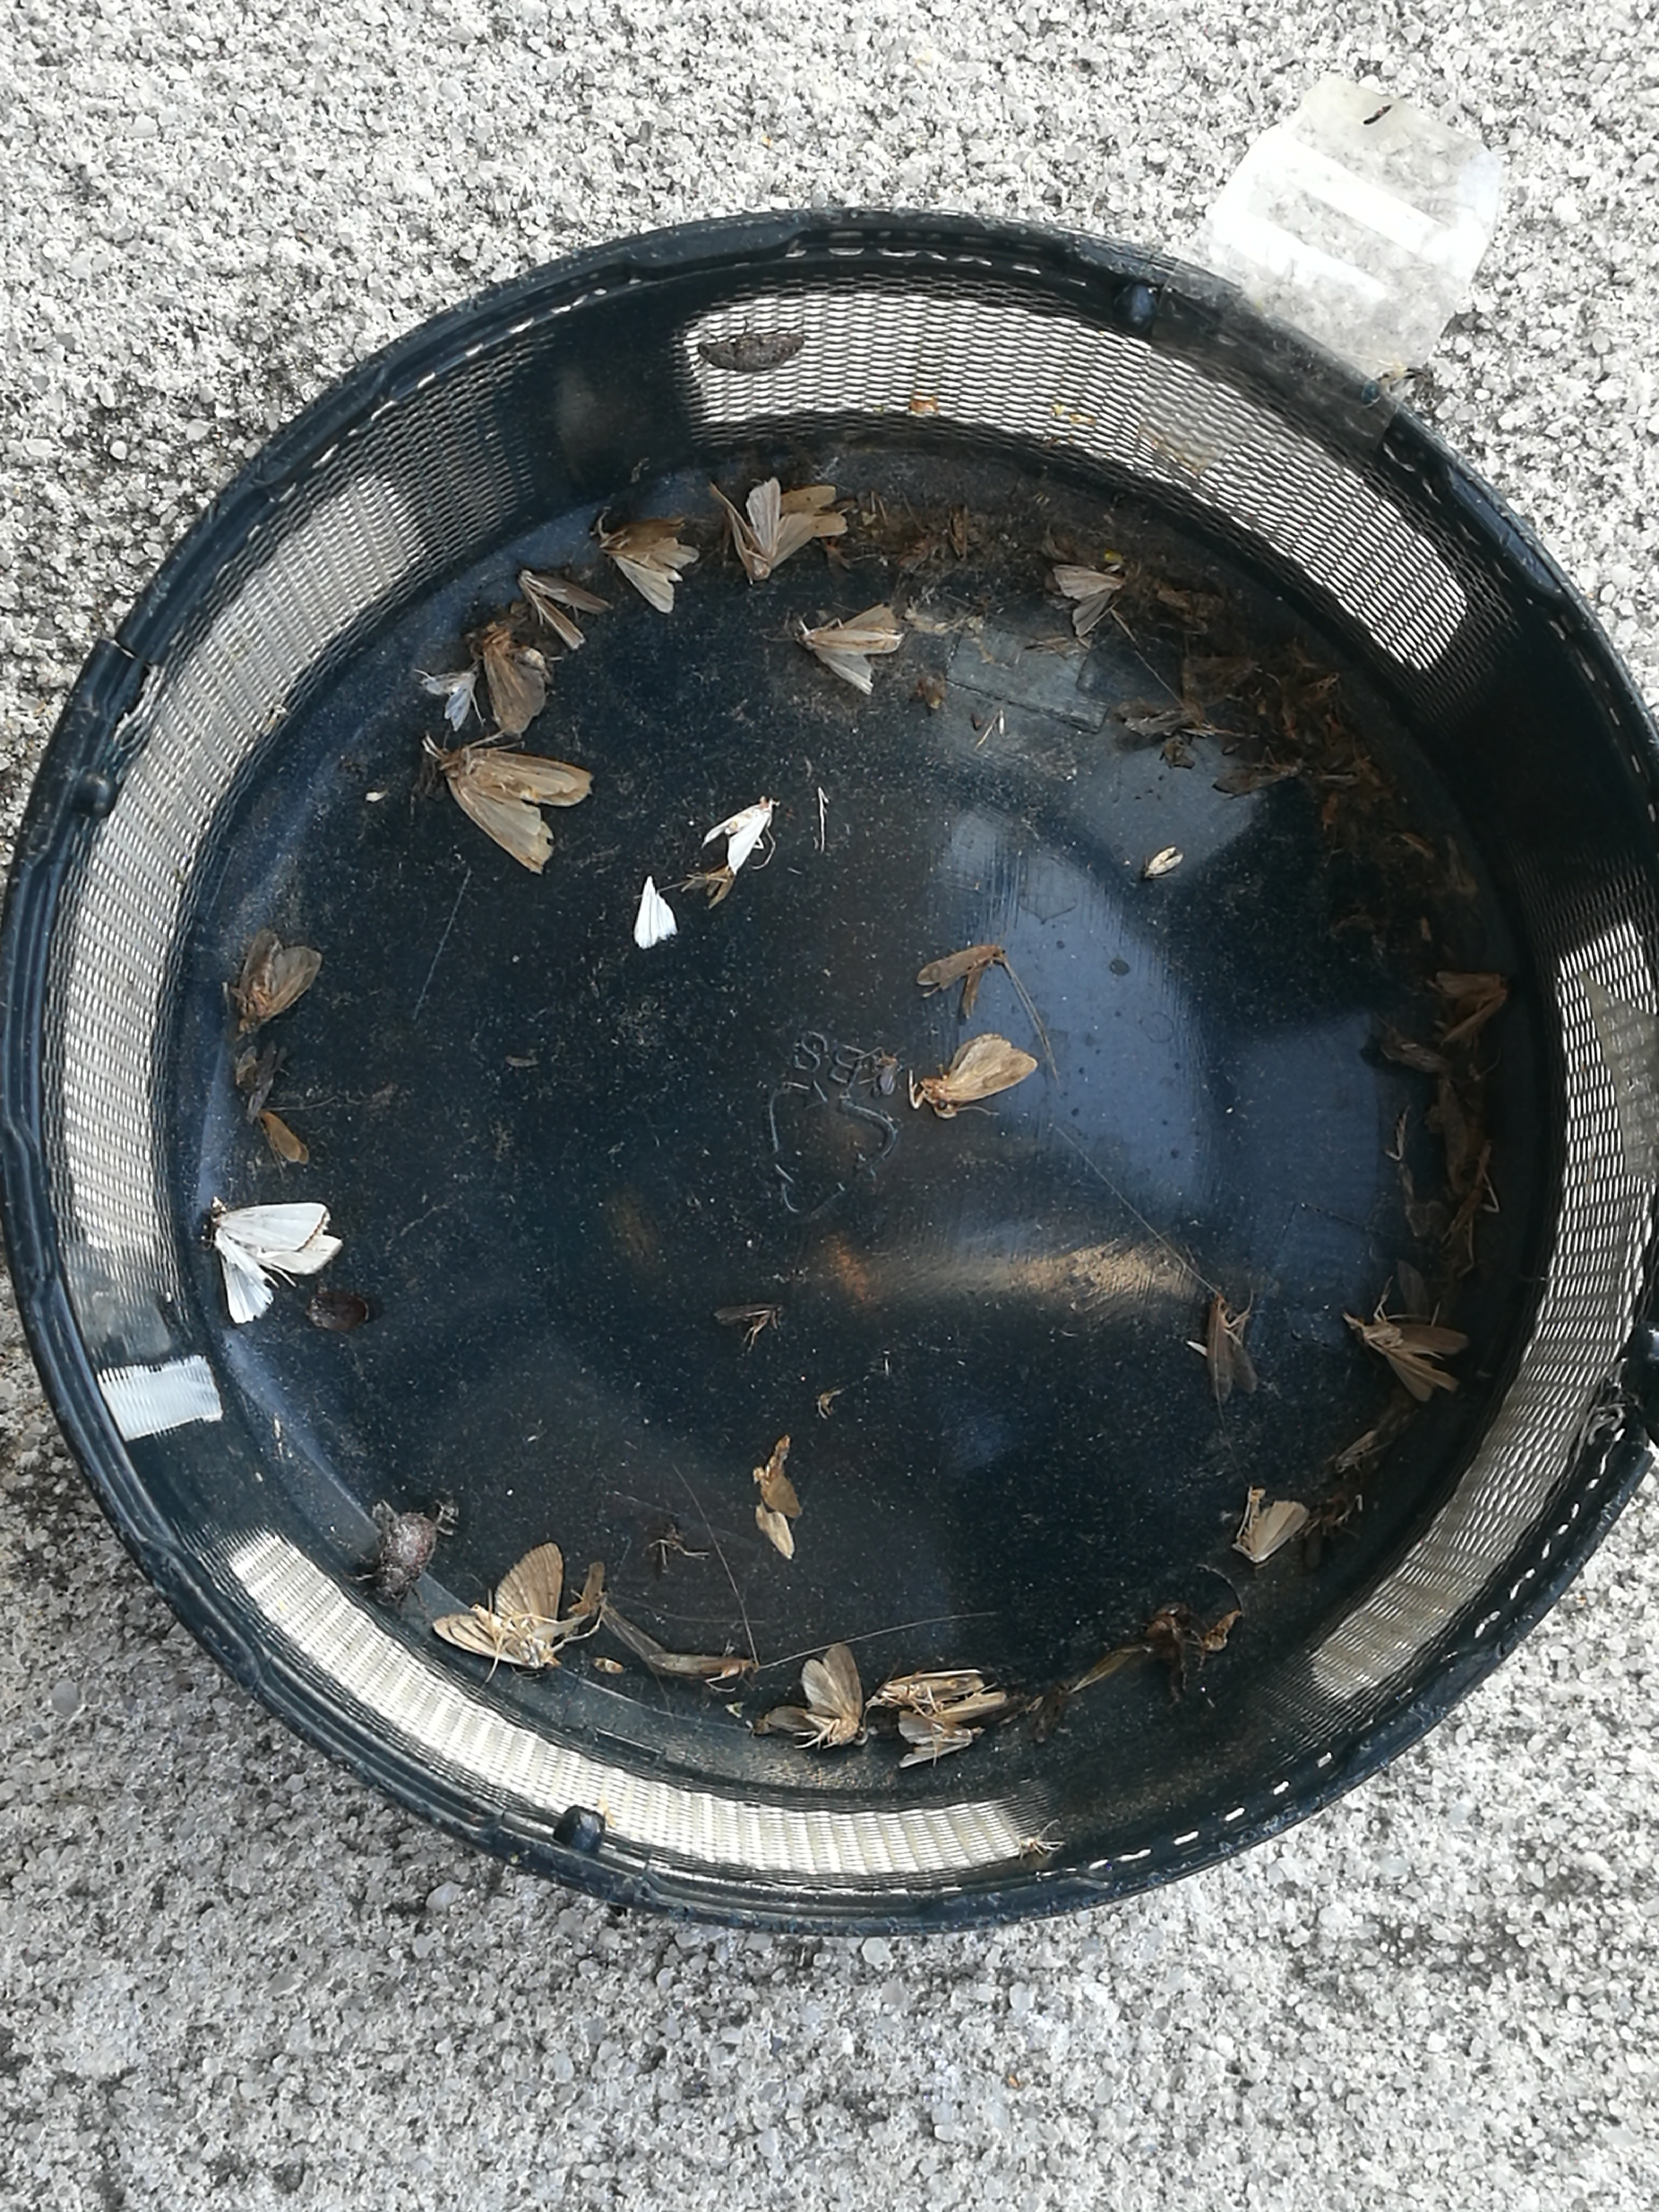beetle: (373, 1514, 436, 1602)
mosquito: (1209, 1294, 1258, 1399), (871, 1669, 983, 1705), (915, 946, 1006, 989), (261, 1111, 308, 1165), (648, 1653, 756, 1674), (714, 1303, 781, 1331), (1143, 846, 1183, 880), (951, 507, 967, 559)
moth: (441, 749, 591, 873), (434, 1541, 563, 1669), (213, 1204, 340, 1322), (765, 1644, 863, 1745), (920, 1035, 1035, 1120), (796, 606, 903, 695), (1359, 1322, 1467, 1400), (599, 535, 699, 615), (246, 932, 321, 1029), (701, 803, 772, 874), (1054, 566, 1122, 634), (899, 1710, 972, 1768), (420, 671, 476, 730)
